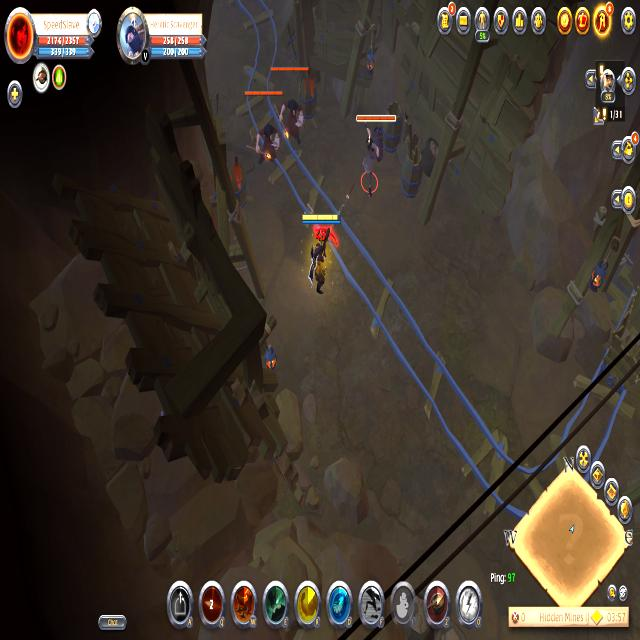ore: (353, 107, 397, 199), (270, 58, 311, 154), (243, 86, 288, 167)
red: (300, 208, 339, 297)
